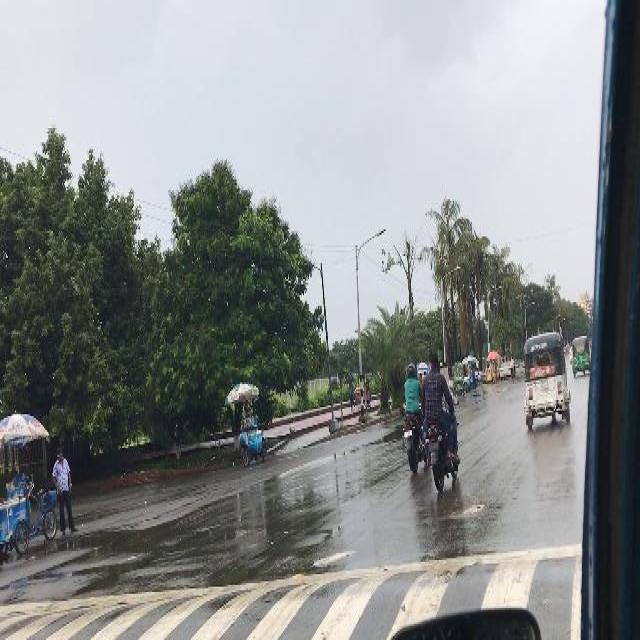car: (498, 359, 509, 377)
motorbike: (422, 349, 450, 490), (402, 360, 422, 472)
rickshaw: (451, 360, 467, 404)
three wheelers -CNG-: (520, 331, 570, 430), (571, 332, 591, 376)
